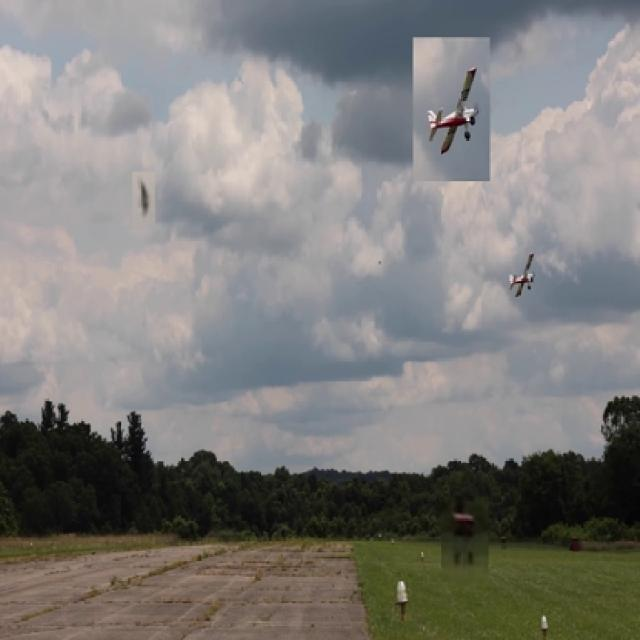bird: (451, 510, 477, 570), (136, 179, 152, 223), (396, 579, 410, 622), (538, 613, 550, 640), (567, 535, 581, 554), (498, 534, 510, 552), (419, 550, 426, 560), (390, 536, 394, 548), (377, 259, 382, 268)
